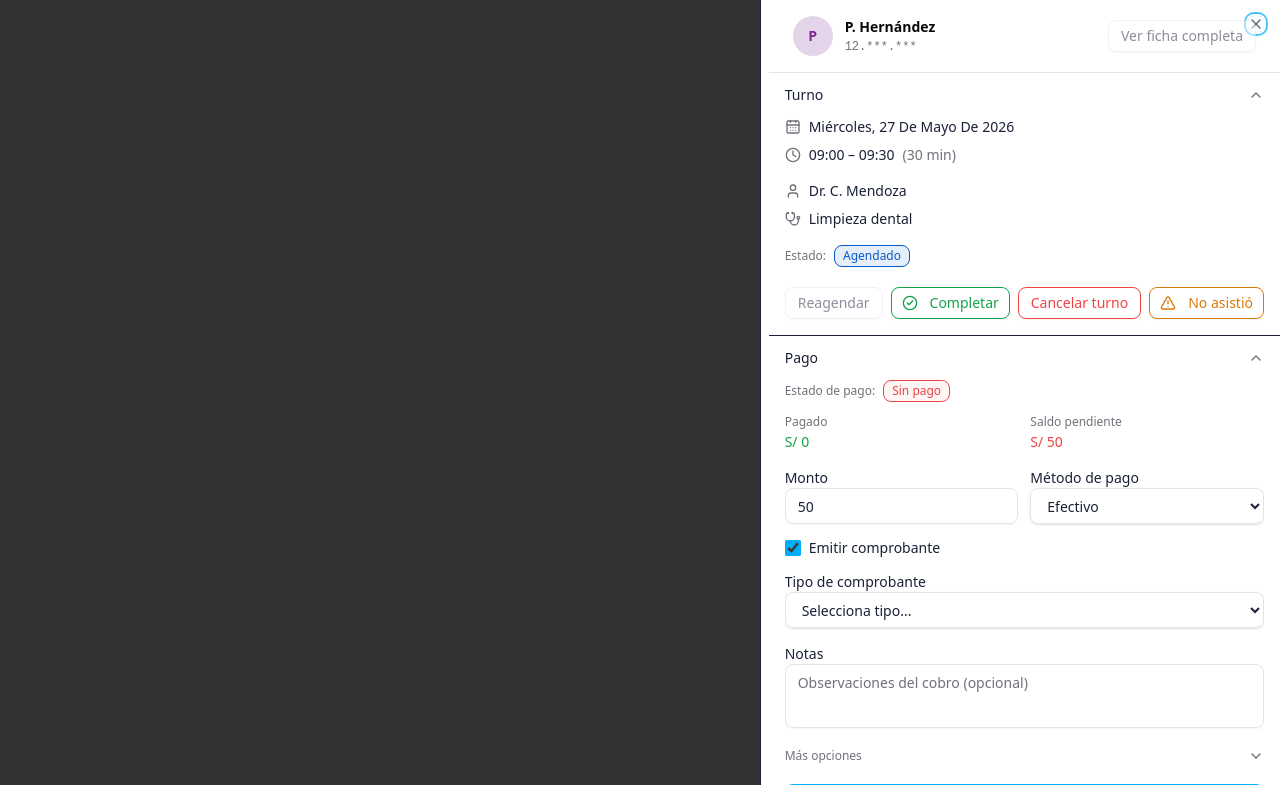
Test: AppointmentDrawer › A6 — 'Cancelar turno' opens confirm Dialog
This screenshot has width=1280, height=785.
Click the button "Cancelar turno" at [1080, 303], box [1018,287,1141,319]
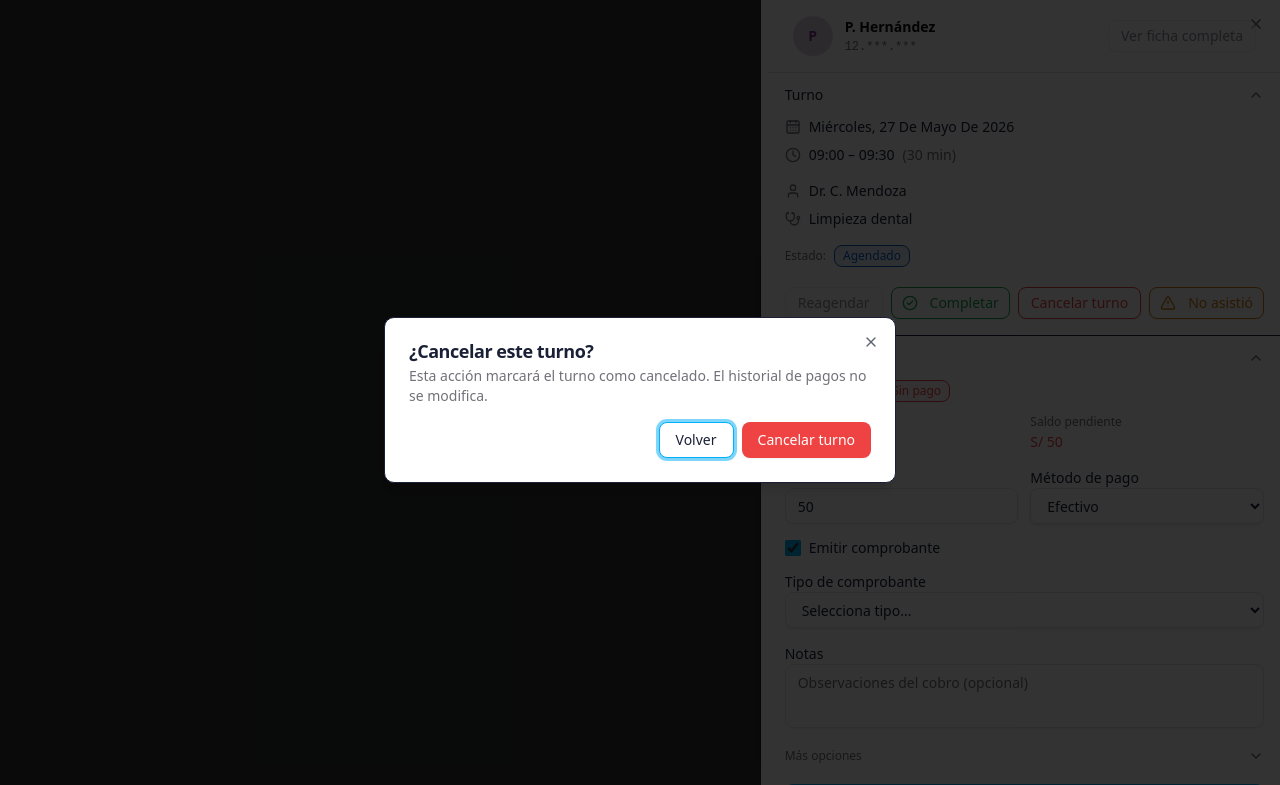
Result: the heading "¿Cancelar este turno?" is shown at [409,339,594,363]
